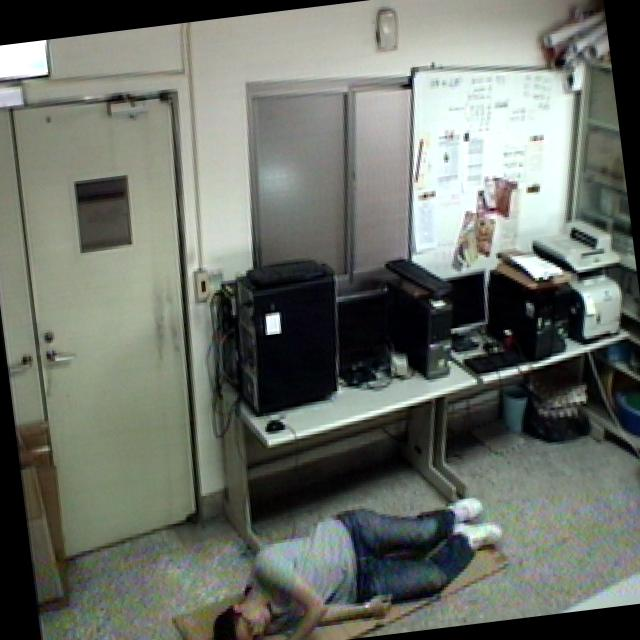lie: (186, 469, 515, 640)
